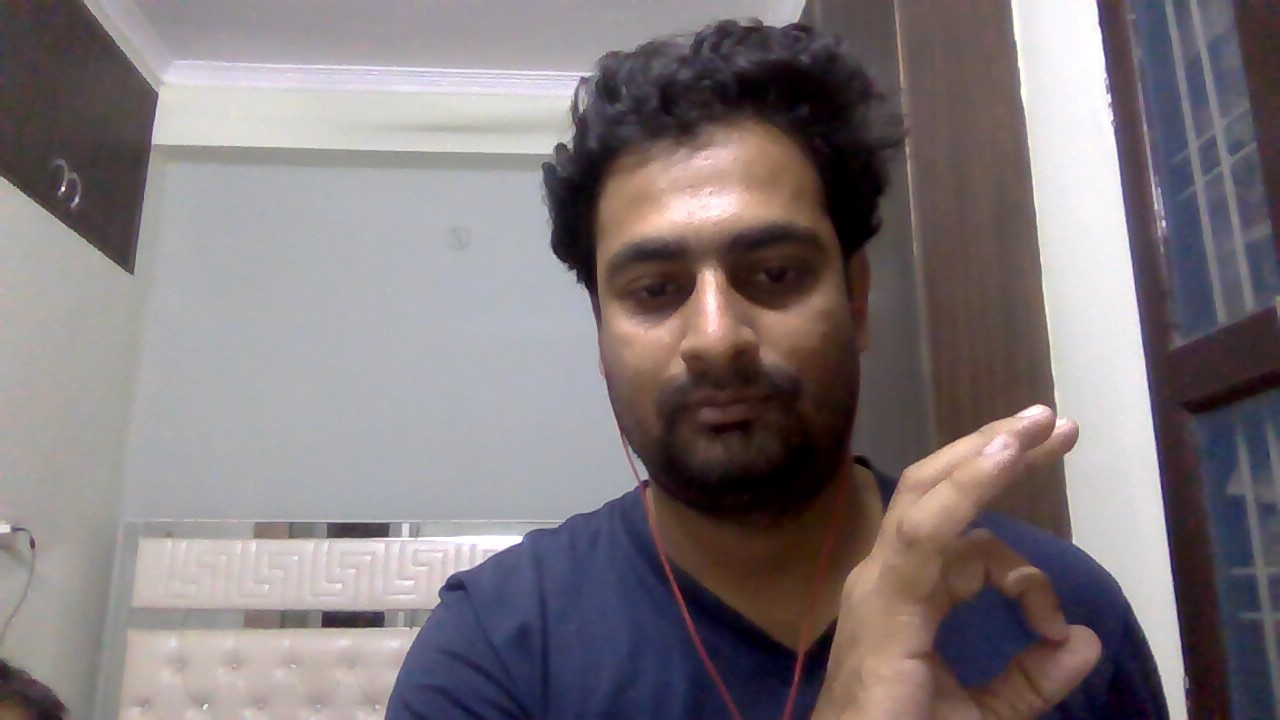Copy: (804, 397, 1111, 719)
